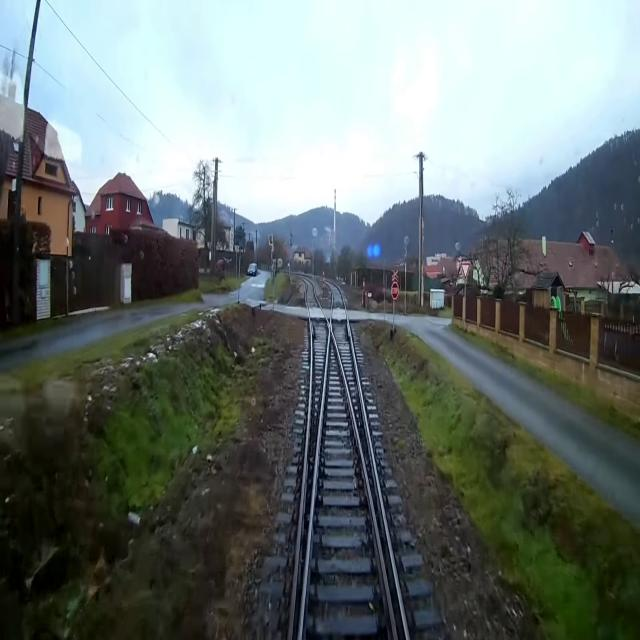rail-track: (302, 333, 393, 639), (329, 283, 405, 639), (293, 280, 328, 639)
